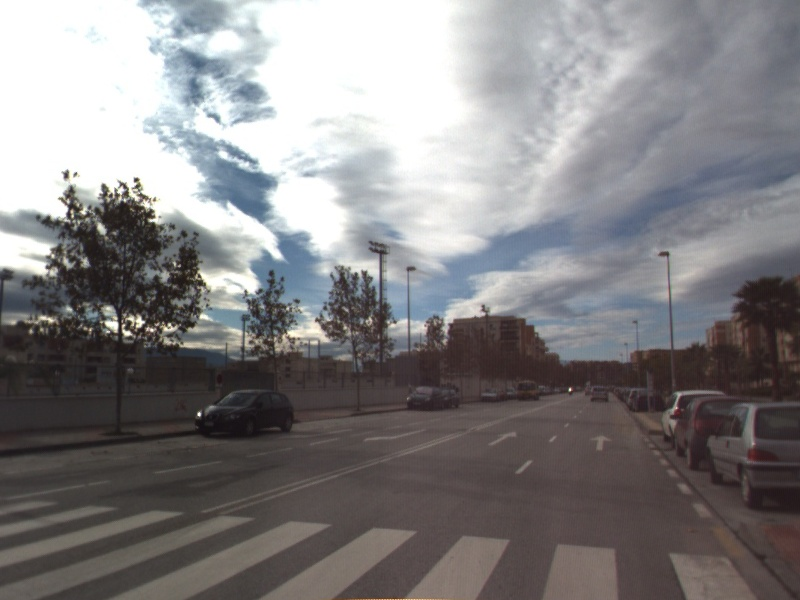STRAIGHT: (486, 429, 519, 447), (587, 432, 615, 453)
